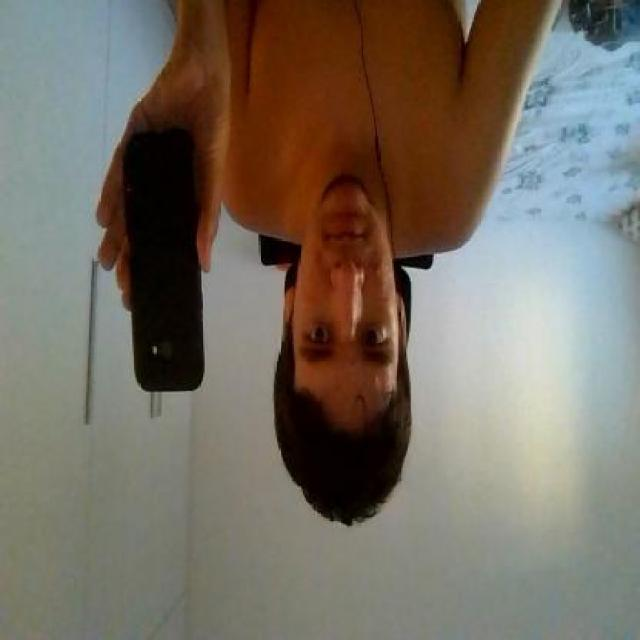phone: (123, 138, 206, 396)
